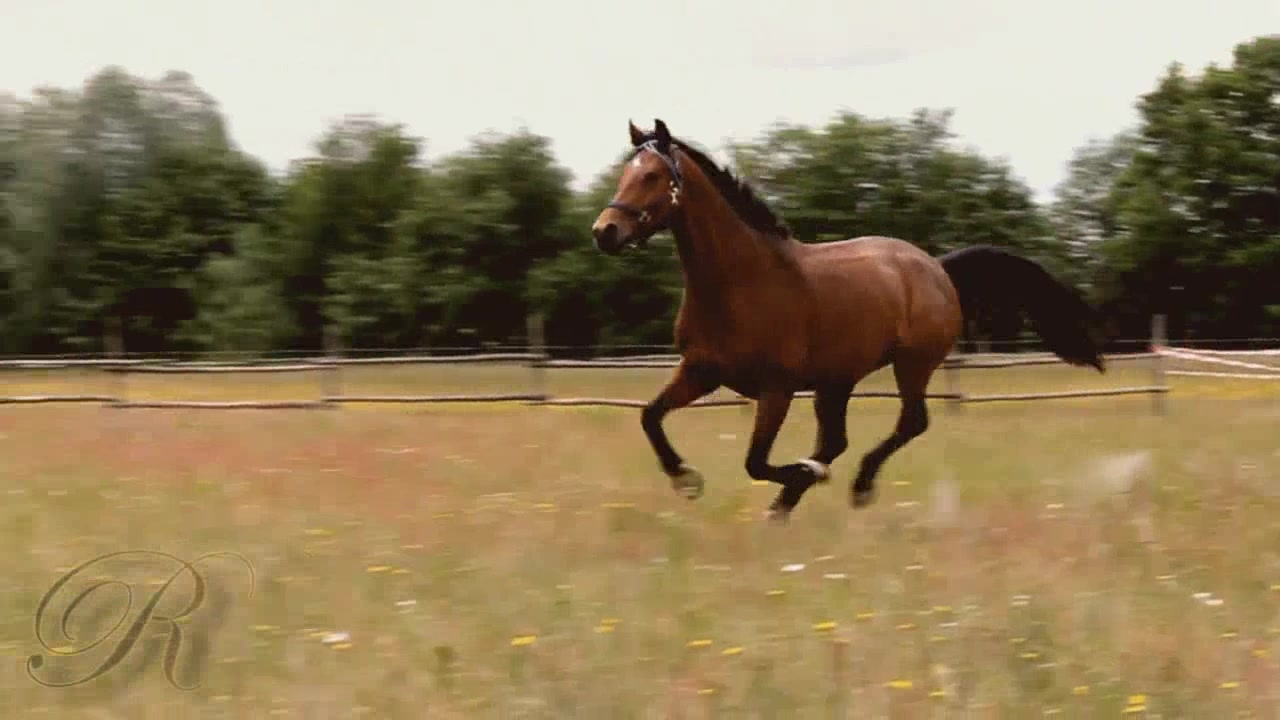horse: (590, 117, 1109, 522)
